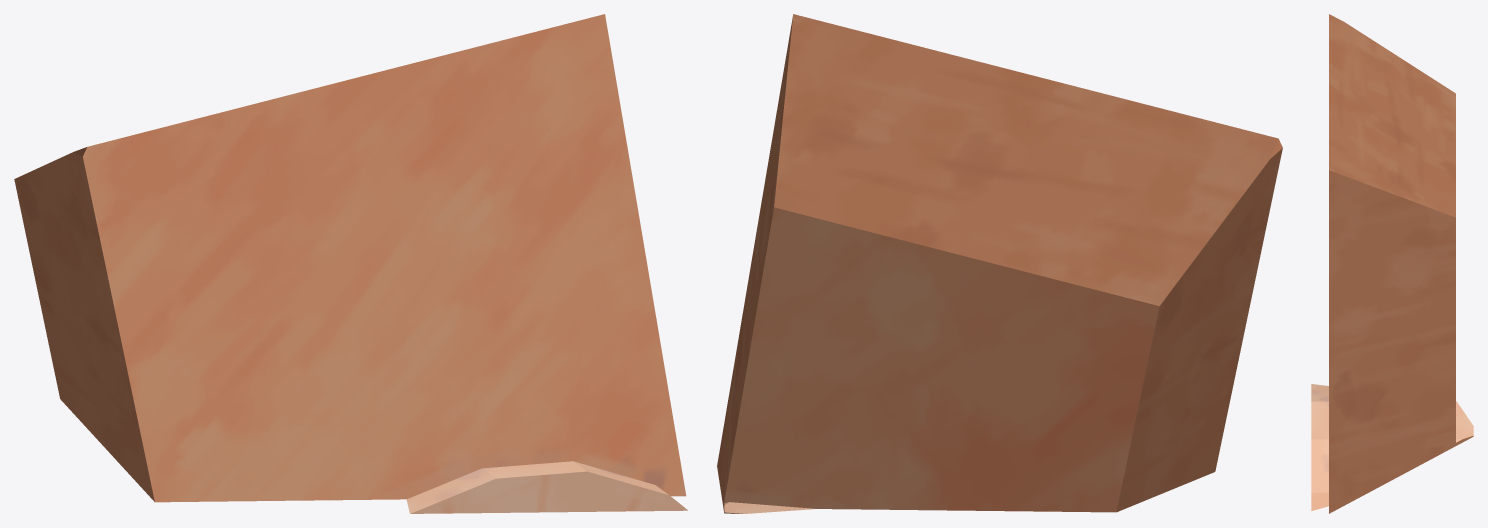
Rendered from wall2_window_s01.fbx.
The picture shows the model from 3 angles, left to right: view 1: azimuth 30°, elevation 25°; view 2: azimuth 150°, elevation 25°; view 3: azimuth 270°, elevation 25°; orthographic projection. The views are drawn at different scales.
Visible parts, largest first — view 1: wall2_window_s01; view 2: wall2_window_s01; view 3: wall2_window_s01.
Boxes of the visible parts, x1=… form: wall2_window_s01: x1=14, y1=14, x2=687, y2=513; wall2_window_s01: x1=717, y1=14, x2=1282, y2=513; wall2_window_s01: x1=1311, y1=14, x2=1473, y2=513.
Bounding box in the file's own units: 3.48 × 2.78 × 1.28.
